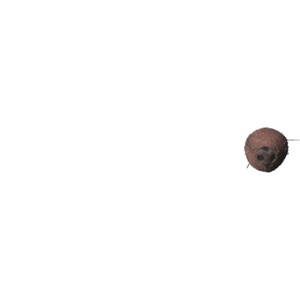coco: (245, 128, 288, 172)
